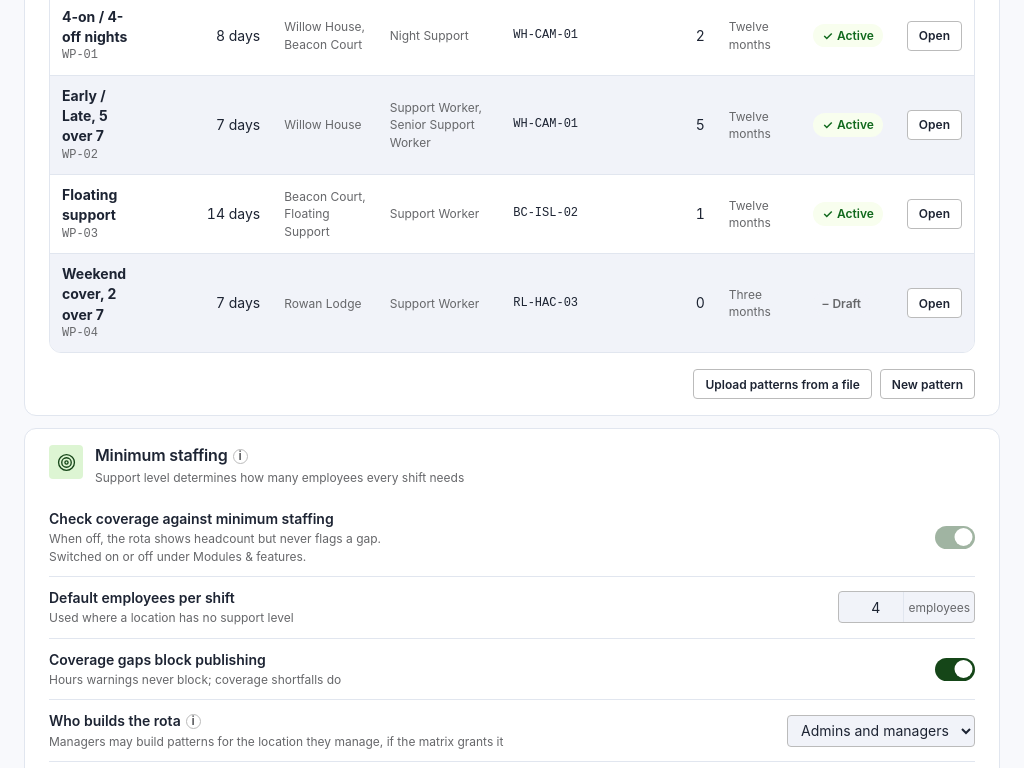
Test: Rota setup › the pattern upload is simulated: Import writes nothing, and the failed rows download as a real CSV
(page scrolled)
Step 1. Click the button "Upload patterns from a file" → (783, 384), box [694, 369, 872, 399]
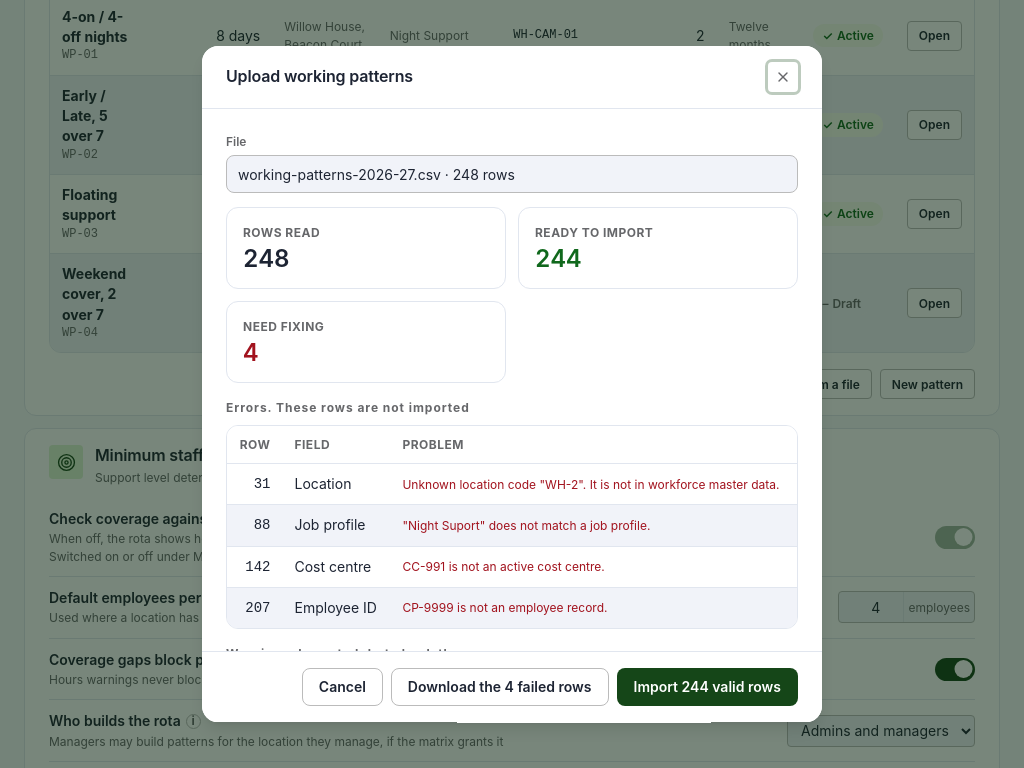
Check: the text with test id "pat-upload-invalid" reads "4", box [243, 338, 258, 367]
Step 2. Click the button with test id "pat-upload-download" → (500, 687), box [391, 668, 609, 706]
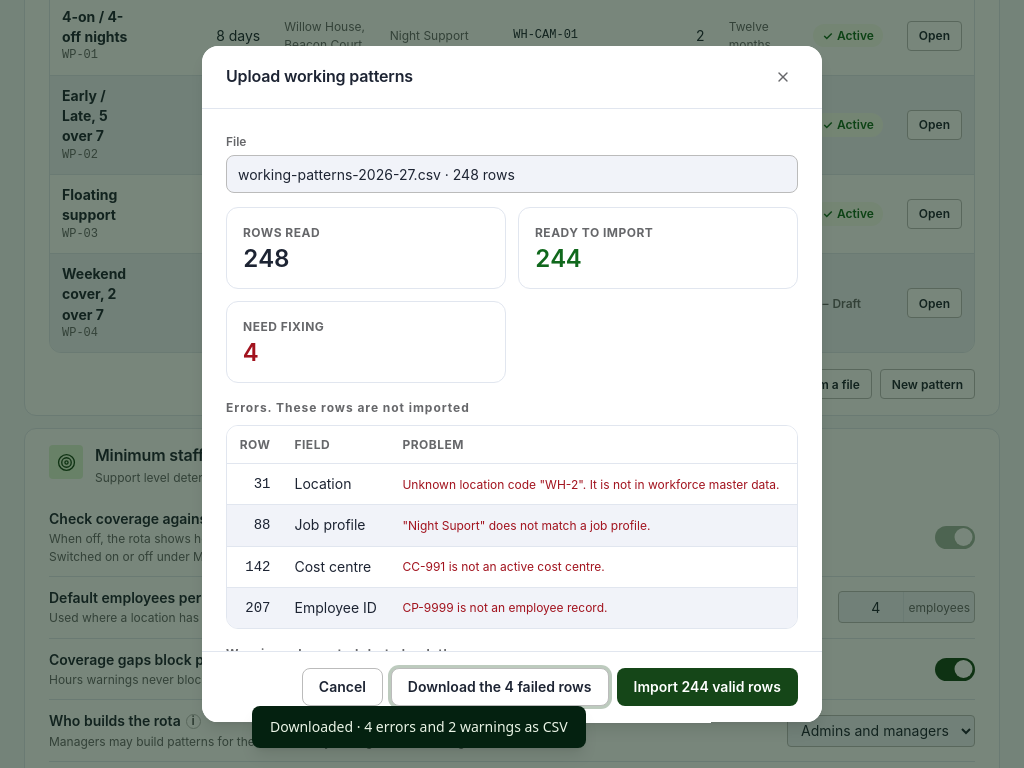
Check: the text "Downloaded · 4 errors and 2 warnings as CSV" is shown, box [270, 717, 568, 737]
Step 3. Click the button with test id "pat-upload-import" → (707, 687), box [616, 668, 798, 706]
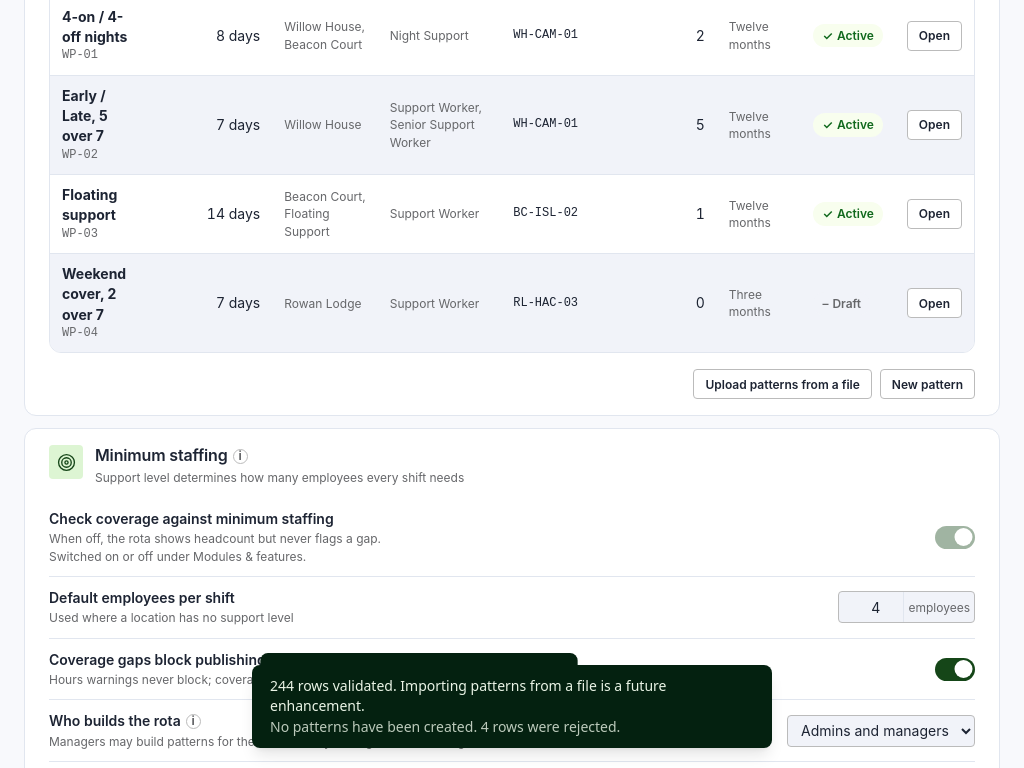
Check: the dialog with test id "modal" is gone
